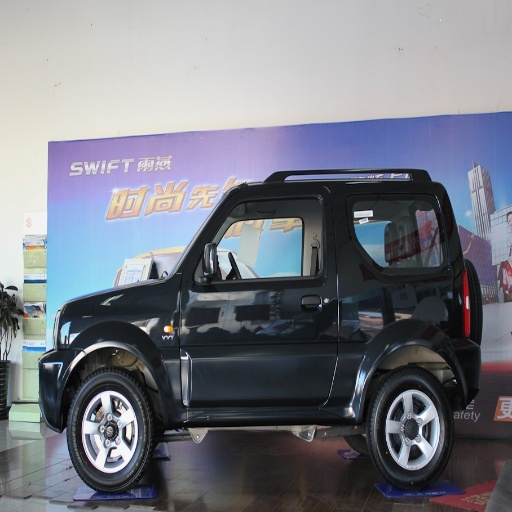trunk: (337, 268, 441, 401)
